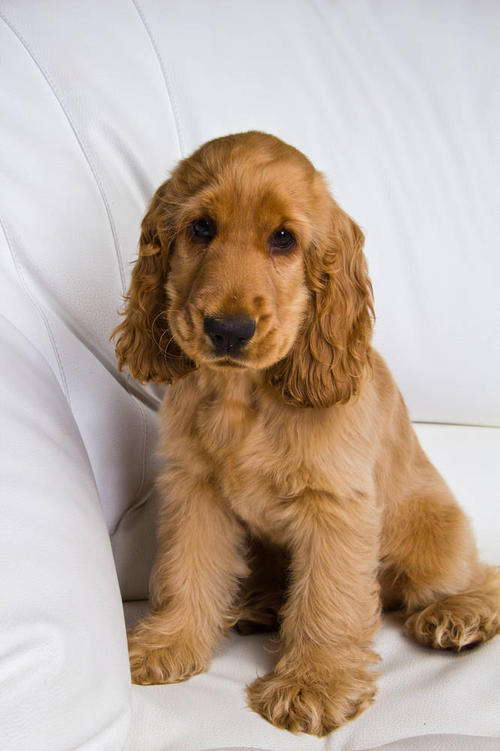dog: (106, 114, 394, 416)
